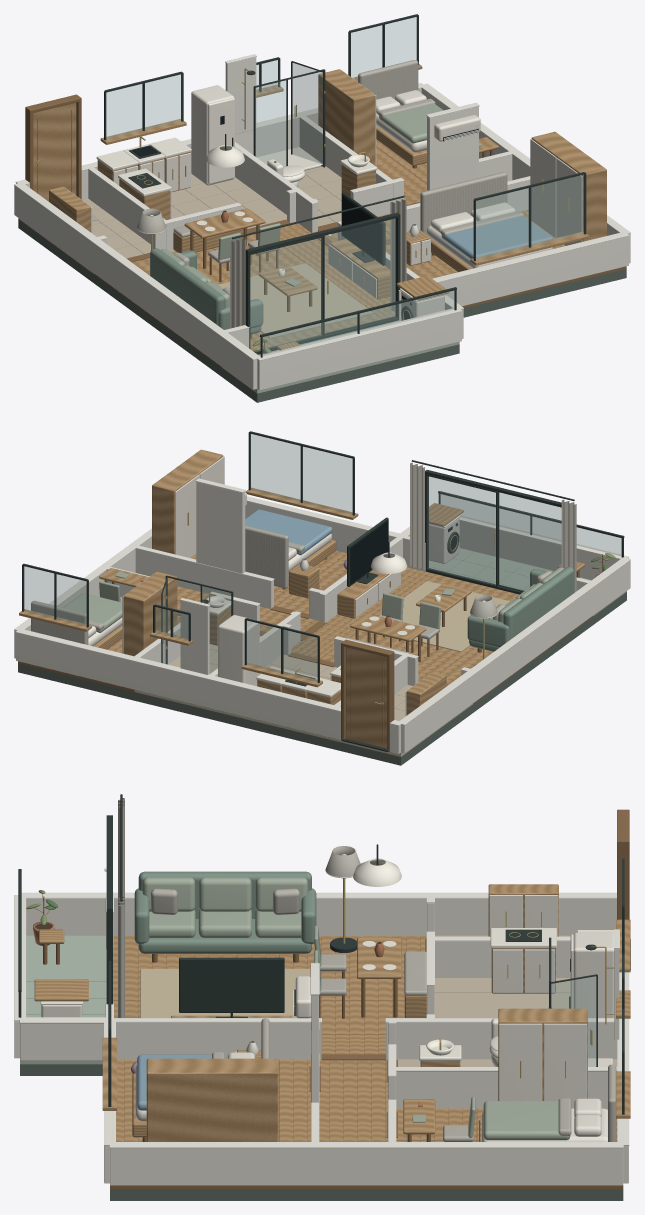
Rendered from 两房一厅.glb.
3 renders of one model, top to bottom at view 1: azimuth 30°, elevation 25°; view 2: azimuth 150°, elevation 25°; view 3: azimuth 270°, elevation 25°, orthographic. The views are drawn at different scales.
Visible parts, largest first — view 1: wall_west__lower, slider_glass, slider_glass.001, architecture, master_window_glass, wall_balcony_front__lower, bedroom__decor_4, wall_south_bedroom__lower, living_room__floor, bedroom_secondary__decor_2, bedroom__decor_2, living_rug (+61 smaller); view 2: wall_north_entry_b__lower, wall_west__lower, slider_glass.001, architecture, master_window_glass, living_room__floor, slider_glass, bedroom__decor_2, bedroom_secondary__decor_2, ac_installation_backing, entry_door__leaf, living_room__decor_7 (+56 smaller); view 3: wall_east__lower, bedroom__decor_2, wall_west__lower, living_room__floor, bedroom_secondary__decor_4, living_room__decor_0, architecture, wall_living_master__lower, living_room__decor_7, hallway__floor, living_room_tv__body, bedroom__floor (+45 smaller).
Boxes of the visible parts, x1,y1,x2,y2 form: wall_west__lower: [14, 186, 257, 389]; slider_glass: [250, 238, 322, 350]; slider_glass.001: [325, 218, 395, 332]; architecture: [18, 202, 626, 402]; master_window_glass: [476, 175, 583, 259]; wall_balcony_front__lower: [257, 311, 461, 390]; bedroom__decor_4: [410, 139, 582, 268]; wall_south_bedroom__lower: [438, 236, 628, 306]; living_room__floor: [94, 221, 394, 367]; bedroom_secondary__decor_2: [318, 64, 498, 165]; bedroom__decor_2: [406, 131, 606, 272]; living_rug: [218, 263, 372, 338]; wall_north_entry_b__lower: [16, 633, 340, 739]; wall_west__lower: [401, 560, 630, 753]; slider_glass.001: [427, 476, 495, 584]; architecture: [18, 592, 626, 765]; master_window_glass: [250, 434, 352, 514]; living_room__floor: [291, 567, 592, 703]; slider_glass: [499, 492, 561, 590]; bedroom__decor_2: [152, 449, 358, 598]; bedroom_secondary__decor_2: [19, 568, 177, 656]; ac_installation_backing: [196, 482, 245, 573]; entry_door__leaf: [346, 647, 386, 748]; living_room__decor_7: [467, 567, 574, 651]; wall_east__lower: [110, 1148, 623, 1185]; bedroom__decor_2: [102, 1037, 278, 1141]; wall_west__lower: [26, 898, 616, 935]; living_room__floor: [113, 935, 426, 1054]; bedroom_secondary__decor_4: [482, 1023, 607, 1141]; living_room__decor_0: [142, 877, 321, 990]; architecture: [20, 939, 623, 1200]; wall_living_master__lower: [116, 1022, 311, 1059]; living_room__decor_7: [134, 871, 316, 953]; hallway__floor: [315, 1059, 392, 1189]; living_room_tv__body: [179, 957, 284, 1012]; bedroom__floor: [110, 1059, 315, 1189].
Size of the model in its own units: 9.39 by 3 by 9.62.
Materials: 29 (2 with a texture image).
